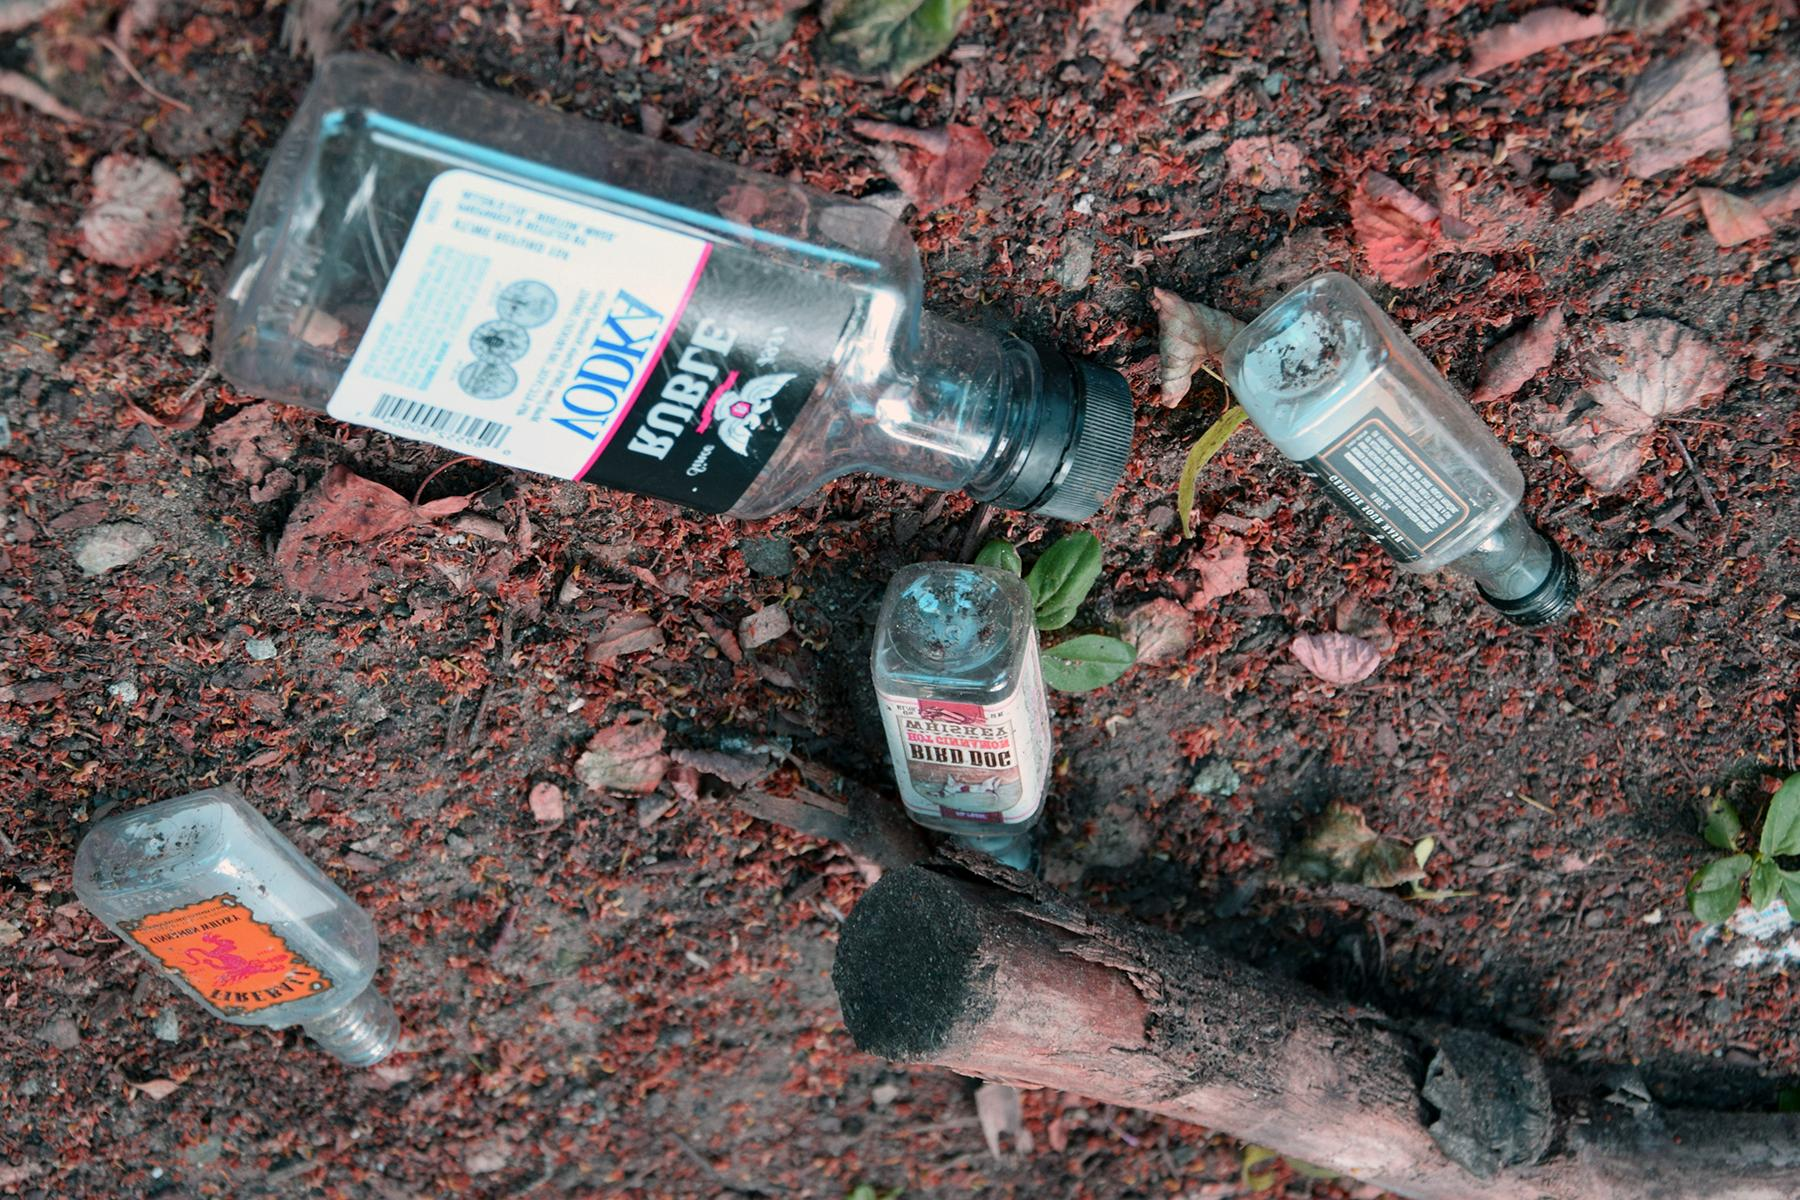Glass: (216, 43, 1148, 549), (1237, 271, 1598, 632), (67, 790, 423, 1102), (861, 542, 1067, 879)
